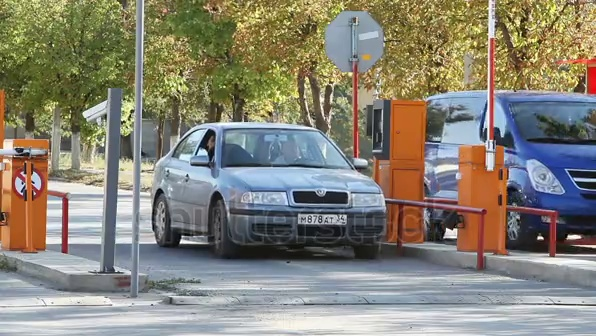licenseplate: (299, 211, 355, 222)
